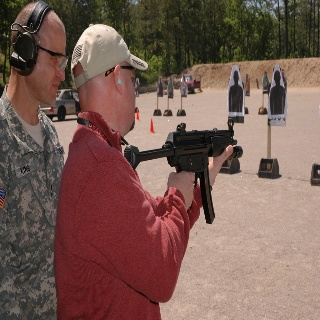rifle: (124, 118, 238, 225)
